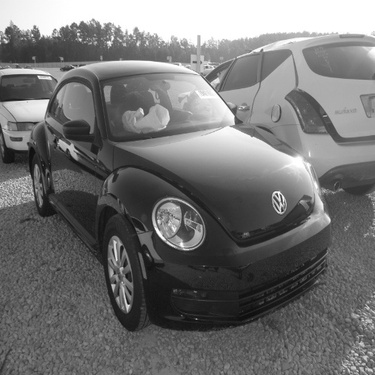car: (28, 59, 331, 331), (203, 32, 374, 196), (1, 68, 58, 168)
